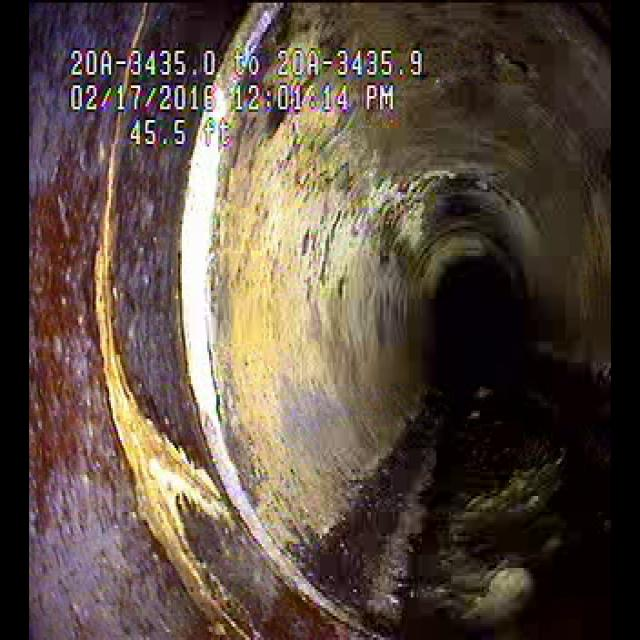Crack: (76, 191, 211, 575)
